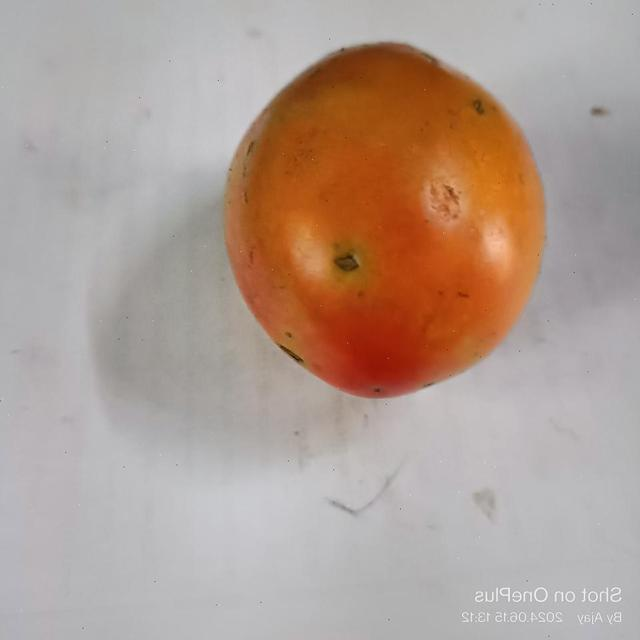Bacterial Spot Fruit: (220, 167, 242, 182)
